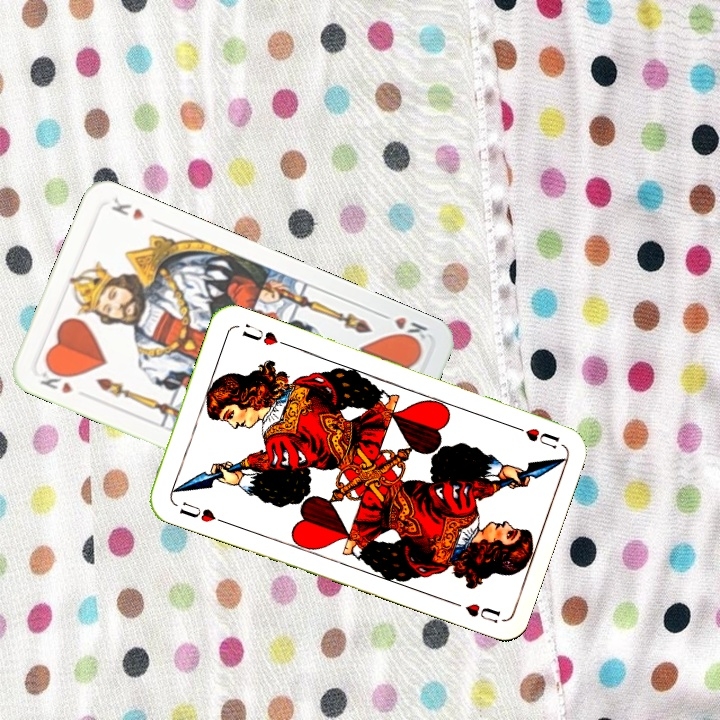HK: (375, 308, 431, 349), (36, 361, 75, 397)
HU: (507, 420, 562, 451), (175, 497, 228, 526)
